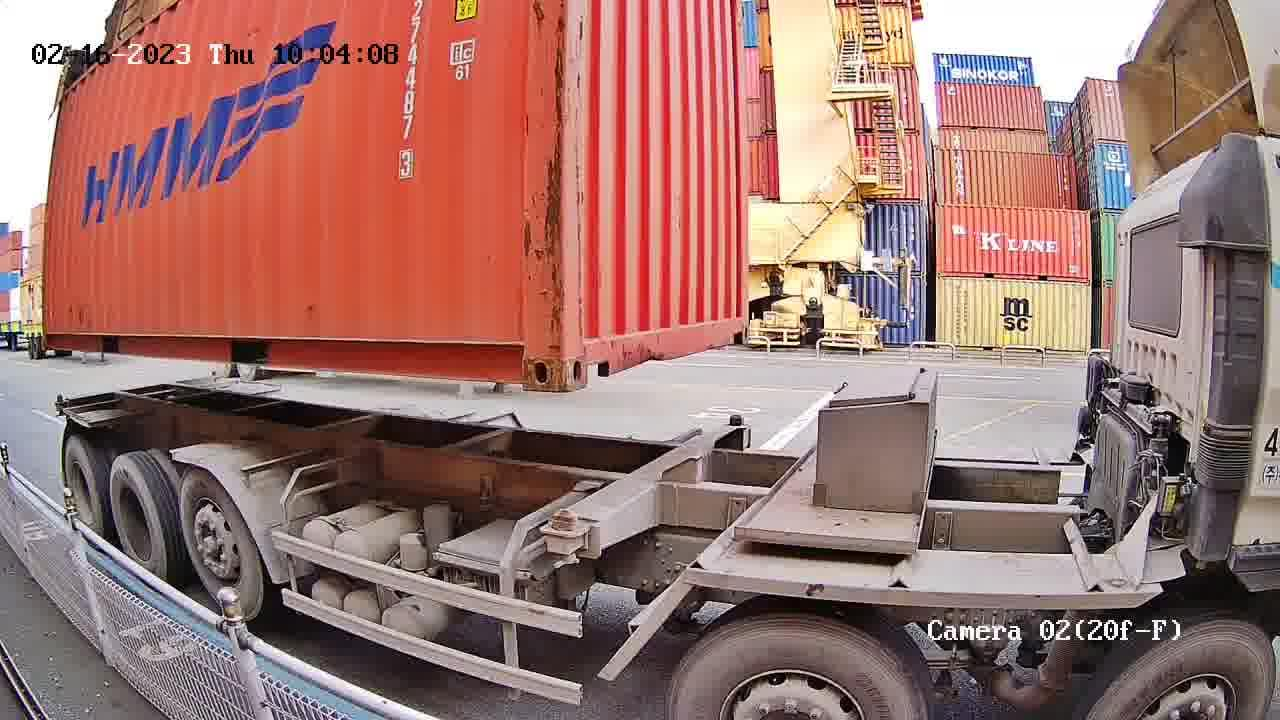Chassis: (536, 423, 750, 556)
Cone: (543, 510, 583, 573), (724, 411, 749, 429)
Hole_L: (562, 305, 619, 392)
Hole_R: (490, 307, 561, 393), (725, 299, 751, 344)
Tire: (179, 471, 261, 621), (110, 458, 167, 588), (64, 437, 105, 546)
